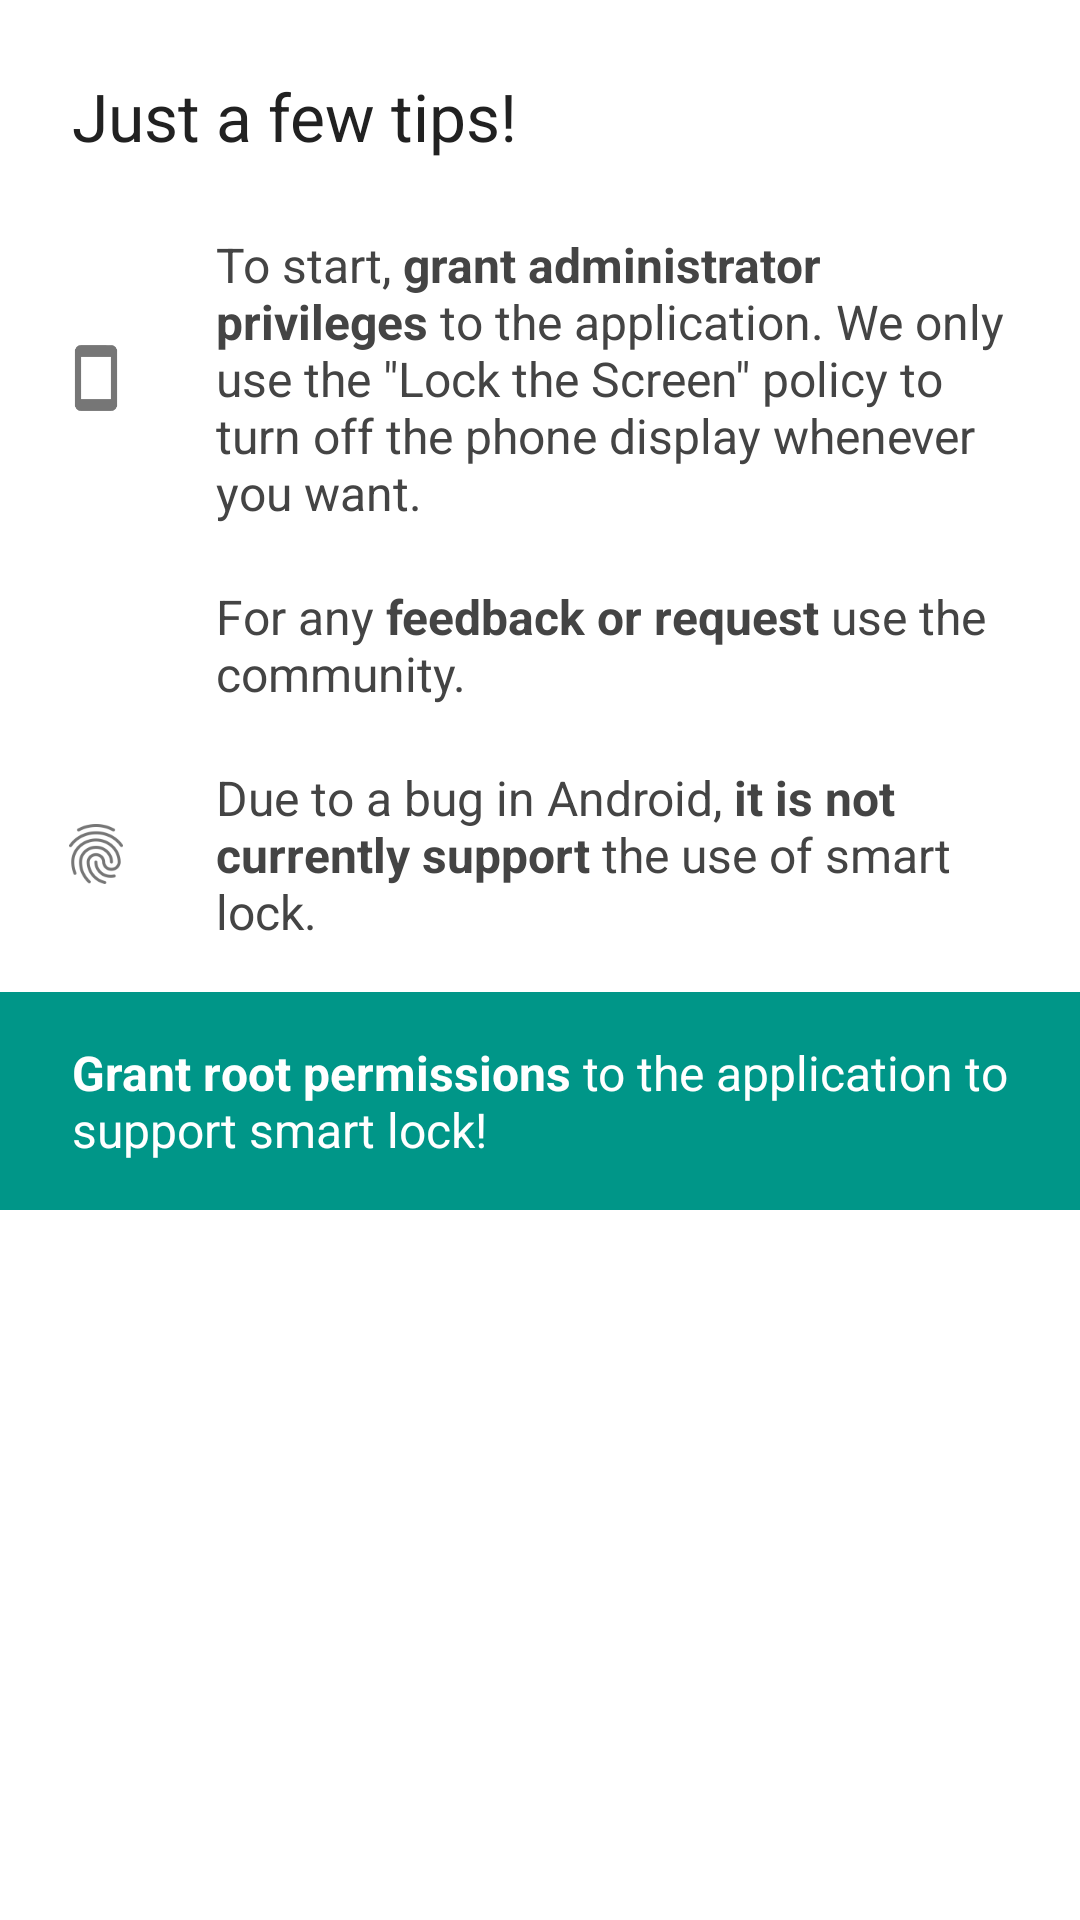

Icon click points for this 1080x1920 phone screenshot, format (x=x, y=y):
fingerprint: (x=96, y=854)
hardware smartphone: (x=96, y=378)
